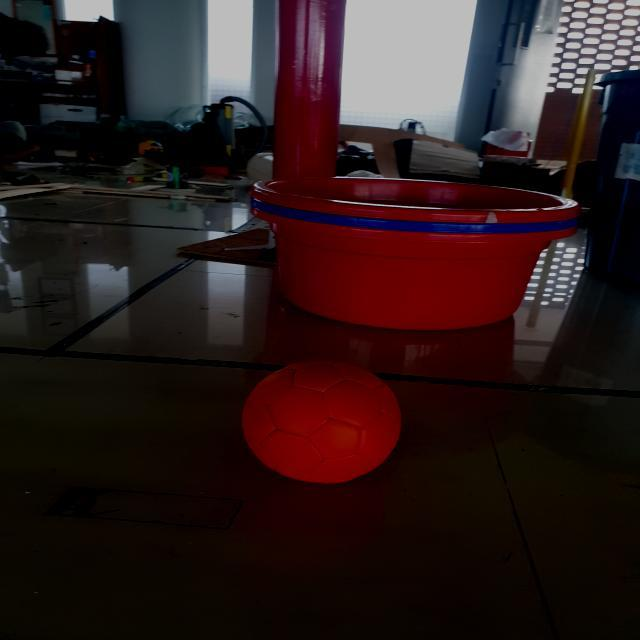bola: (226, 349, 424, 491)
